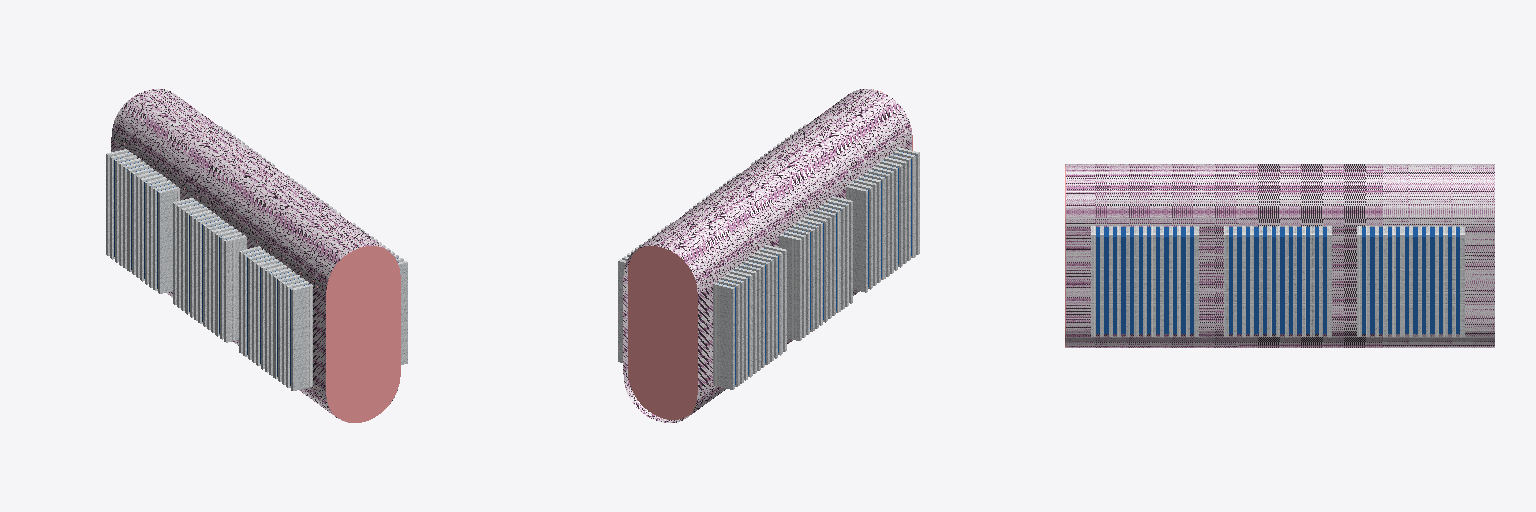
The picture shows the model from 3 angles: view 1: azimuth 30°, elevation 25°; view 2: azimuth 150°, elevation 25°; view 3: azimuth 270°, elevation 25°; orthographic projection.
Visible parts, largest first — view 1: wall_01, wall1_02, slab_01, wall1_01, glass_02; view 2: wall_01, wall1_02, slab_01, wall1_01, glass_02; view 3: wall_01, wall1_01, glass_02.
Part boxes in pixels (x1,y1,x2,y2): wall_01: (111,89,397,422); wall1_02: (108,127,407,390); slab_01: (124,100,400,422); wall1_01: (106,126,406,390); glass_02: (114,152,398,385); wall_01: (623,89,911,422); wall1_02: (618,126,917,389); slab_01: (628,89,912,419); wall1_01: (619,124,919,389); glass_02: (719,151,915,384); wall_01: (1066,164,1494,347); wall1_01: (1091,226,1464,336); glass_02: (1096,227,1459,333).
Size of the model in its own units: 1860 by 2700 by 6006.
Materials: 4 (2 with a texture image).